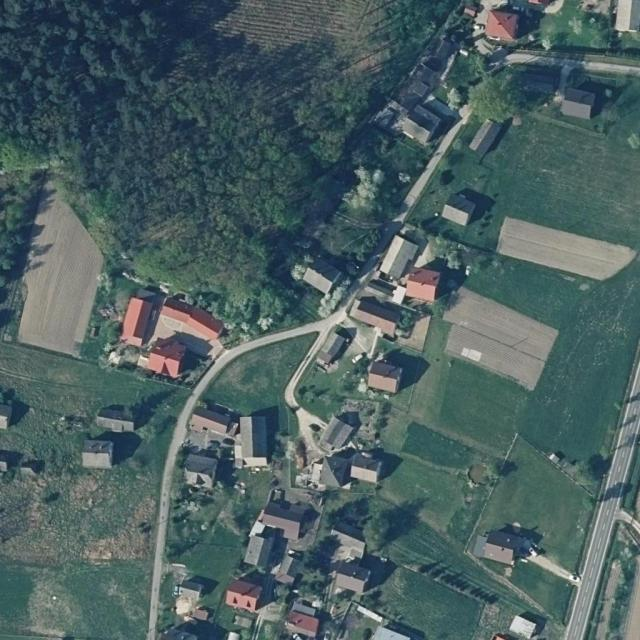agricultural_land: (0, 466, 156, 640), (12, 190, 114, 357), (194, 329, 334, 428), (87, 368, 191, 489), (442, 284, 560, 365), (159, 484, 254, 584), (376, 444, 474, 533), (215, 0, 366, 49), (527, 484, 597, 573), (506, 548, 586, 625), (0, 405, 92, 468), (387, 516, 472, 573), (398, 420, 475, 475), (442, 478, 491, 545), (402, 452, 462, 477)
building: (243, 496, 305, 575), (371, 92, 446, 149), (158, 291, 227, 347), (116, 285, 166, 351), (410, 33, 464, 92), (315, 402, 366, 459), (470, 0, 526, 47), (347, 295, 404, 338), (378, 235, 419, 282), (145, 335, 187, 378), (301, 255, 342, 295), (439, 189, 478, 228), (239, 415, 268, 467), (404, 265, 442, 303), (223, 578, 263, 614), (468, 116, 503, 157), (180, 453, 218, 490), (364, 359, 404, 394), (331, 521, 366, 561), (421, 93, 461, 127), (314, 330, 348, 370), (332, 560, 372, 594), (95, 403, 137, 435), (482, 529, 518, 566), (189, 407, 234, 435), (560, 86, 595, 120), (348, 451, 384, 484), (174, 579, 203, 618), (319, 454, 351, 488), (284, 611, 321, 638), (517, 72, 555, 96), (82, 440, 112, 469), (615, 0, 640, 32), (509, 614, 538, 640), (366, 274, 397, 297), (0, 451, 21, 472), (190, 606, 215, 623), (0, 404, 13, 430)
greenland: (274, 0, 456, 171), (310, 147, 420, 272), (350, 120, 426, 180), (538, 0, 609, 50), (464, 71, 524, 129)
metalled_road: (392, 102, 476, 225), (344, 214, 404, 302), (279, 323, 330, 411), (505, 49, 640, 76)
unmetalled_road: (291, 400, 338, 460), (527, 549, 583, 587), (614, 507, 640, 536)
